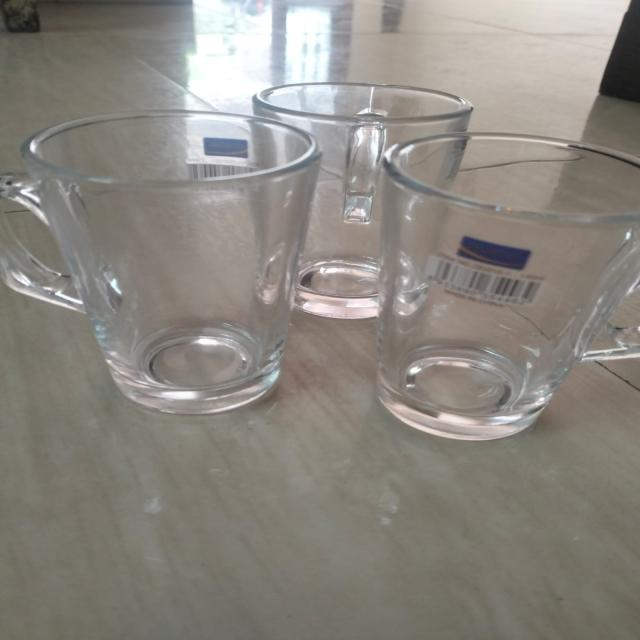glass-VX4N: (0, 108, 323, 418), (381, 132, 640, 443), (253, 80, 477, 321)
